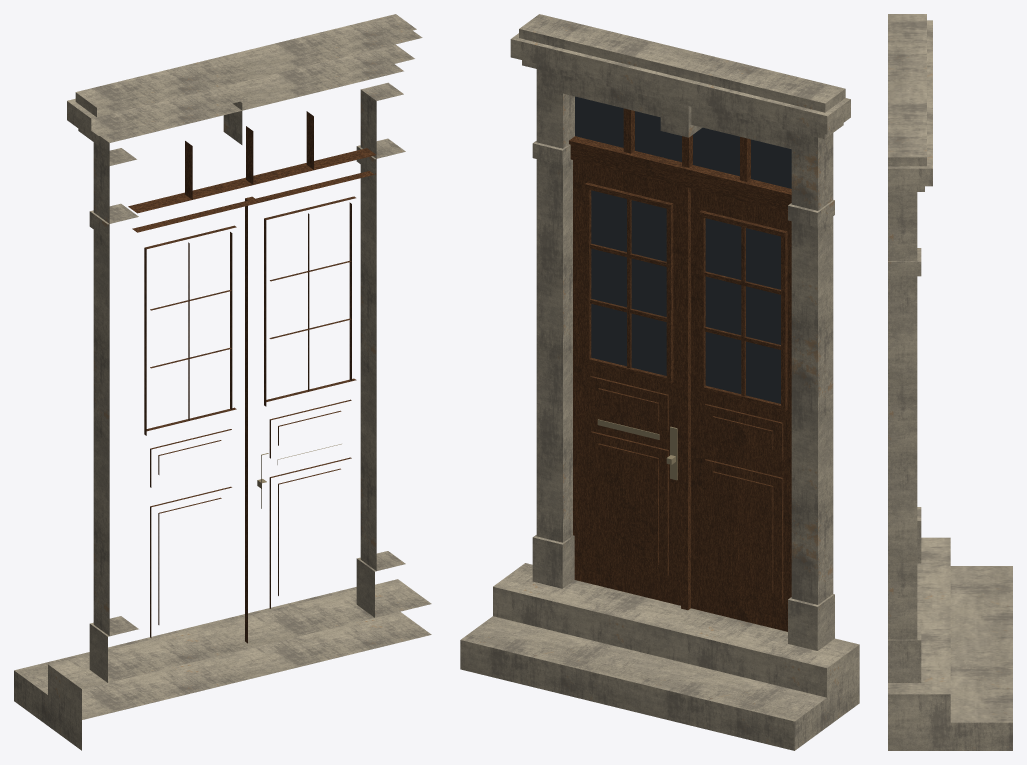
The model's file is door_portal.glb.
3 renders of one model, left to right at view 1: azimuth 30°, elevation 25°; view 2: azimuth 150°, elevation 25°; view 3: azimuth 270°, elevation 25°, orthographic. The views are drawn at different scales.
Parts seen in each view (by area): view 1: door_portal; view 2: door_portal; view 3: door_portal.
Part boxes in pixels (left/top/right/bottom): door_portal: left=14, top=14, right=431, bottom=750; door_portal: left=460, top=14, right=859, bottom=750; door_portal: left=888, top=14, right=1012, bottom=750.
Bounding box in the file's own units: 1.9 × 3.32 × 0.64.
Materials: 4 (2 with a texture image).
